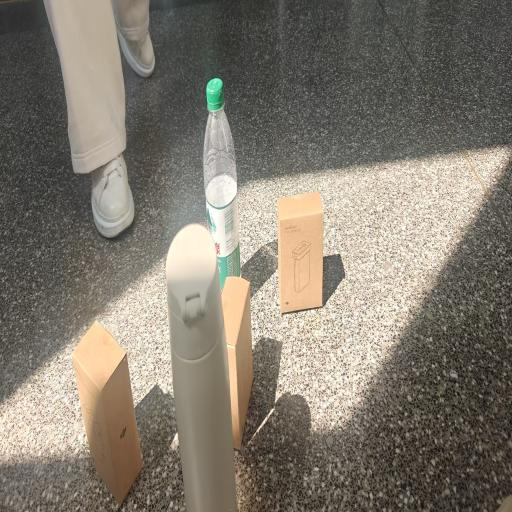bottle: (166, 224, 238, 512), (203, 78, 241, 290)
box: (72, 321, 142, 506), (277, 191, 344, 314), (222, 276, 253, 450)
